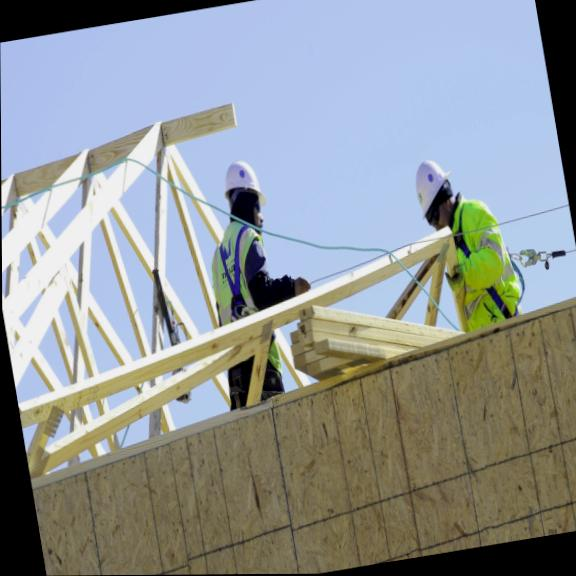safety_vest: (430, 191, 529, 344)
